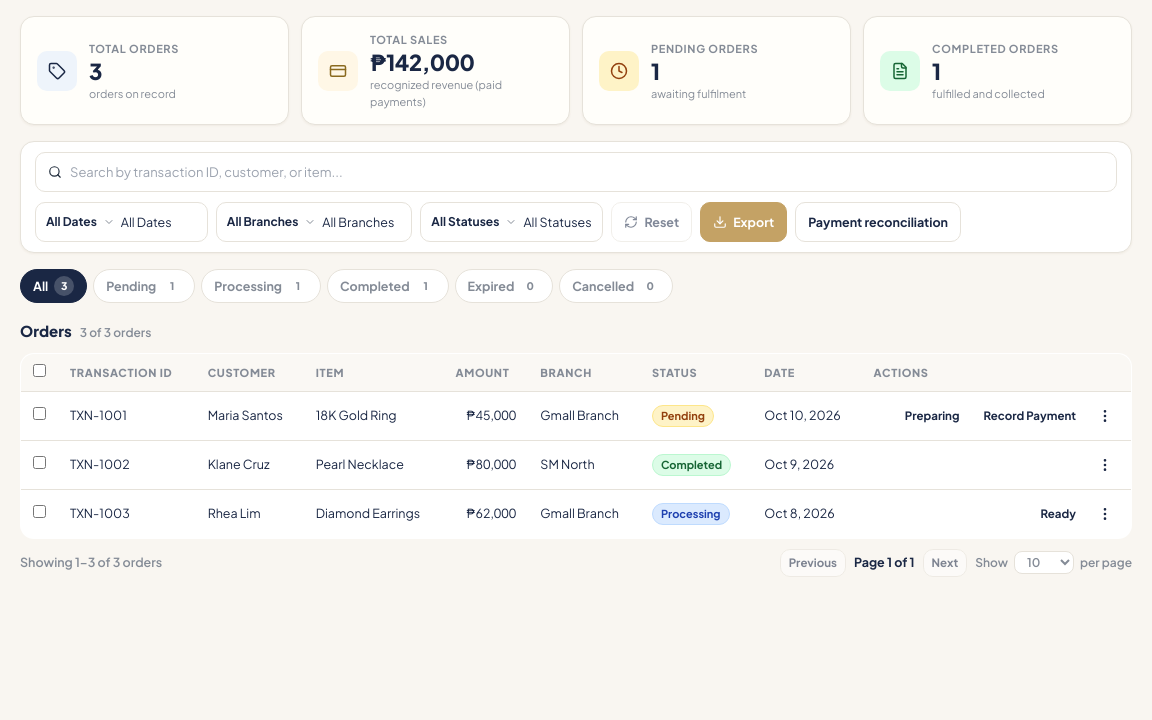
Scenario: Admin Orders page › branch filter narrows the table
The width and height of the screenshot is (1152, 720).
Expected: the text "TXN-1001" is shown, [58,392,196,440]
Step 1. Select "SM North" in the dropdown named "Branch filter" → (362, 222), box [322,213,401,232]
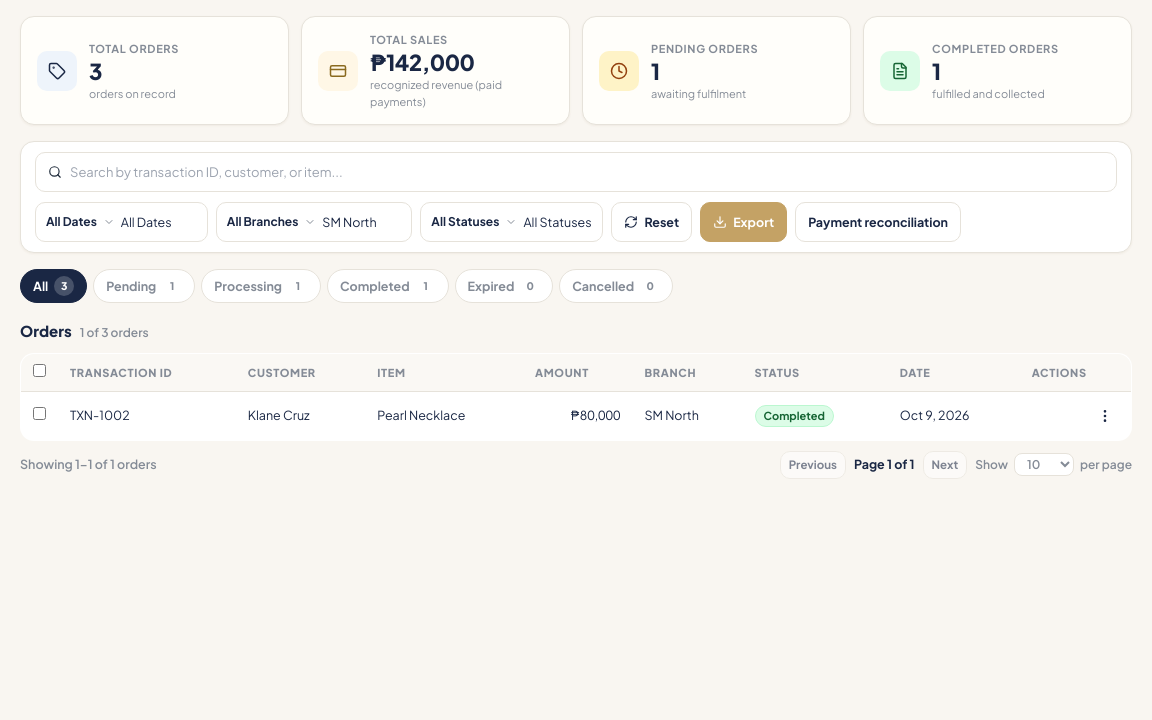
Expected: the text "TXN-1002" is shown, [58,392,236,440]
Now the button "TXN-1001" is gone
